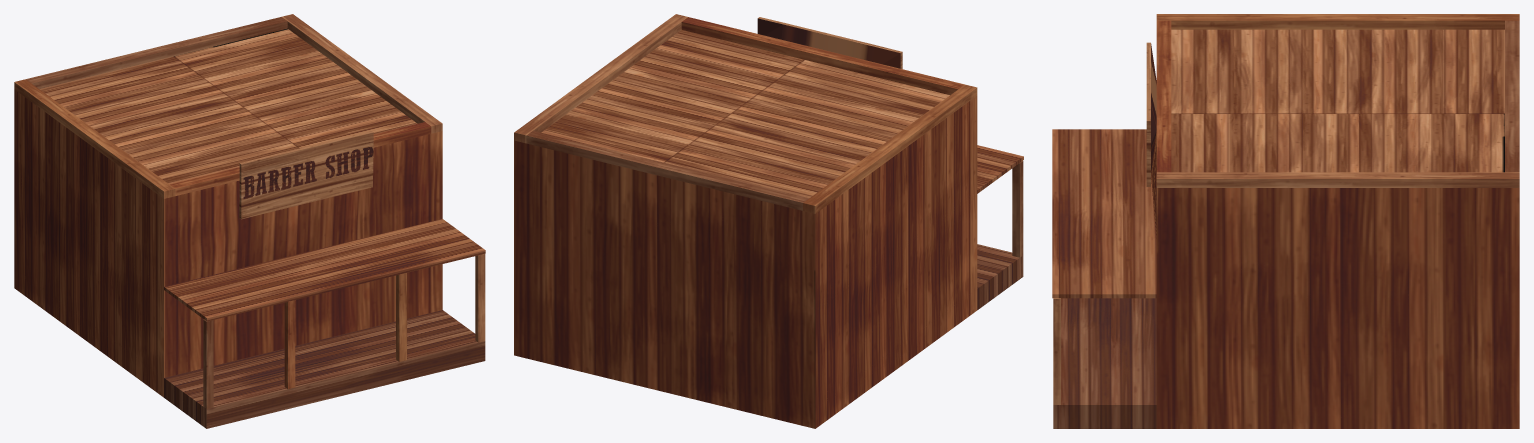
The model's file is barbershop.FBX.
3 renders of one model, left to right at view 1: azimuth 30°, elevation 25°; view 2: azimuth 150°, elevation 25°; view 3: azimuth 270°, elevation 25°, orthographic. The views are drawn at different scales.
Parts seen in each view (by area): view 1: Box001; view 2: Box001; view 3: Box001.
Boxes of the visible parts, box(x1,y1,x2,y2) form: Box001: box(14, 14, 485, 428); Box001: box(514, 14, 1023, 428); Box001: box(1052, 14, 1519, 428).
Size of the model in its own units: 792 by 594 by 949.
